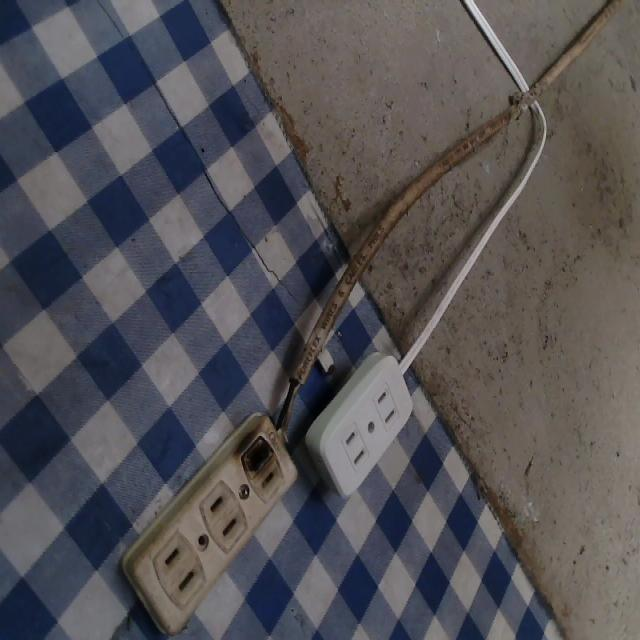-: (235, 424, 276, 477)
